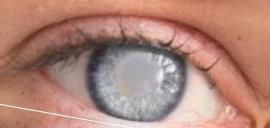eye: (89, 42, 189, 122)
